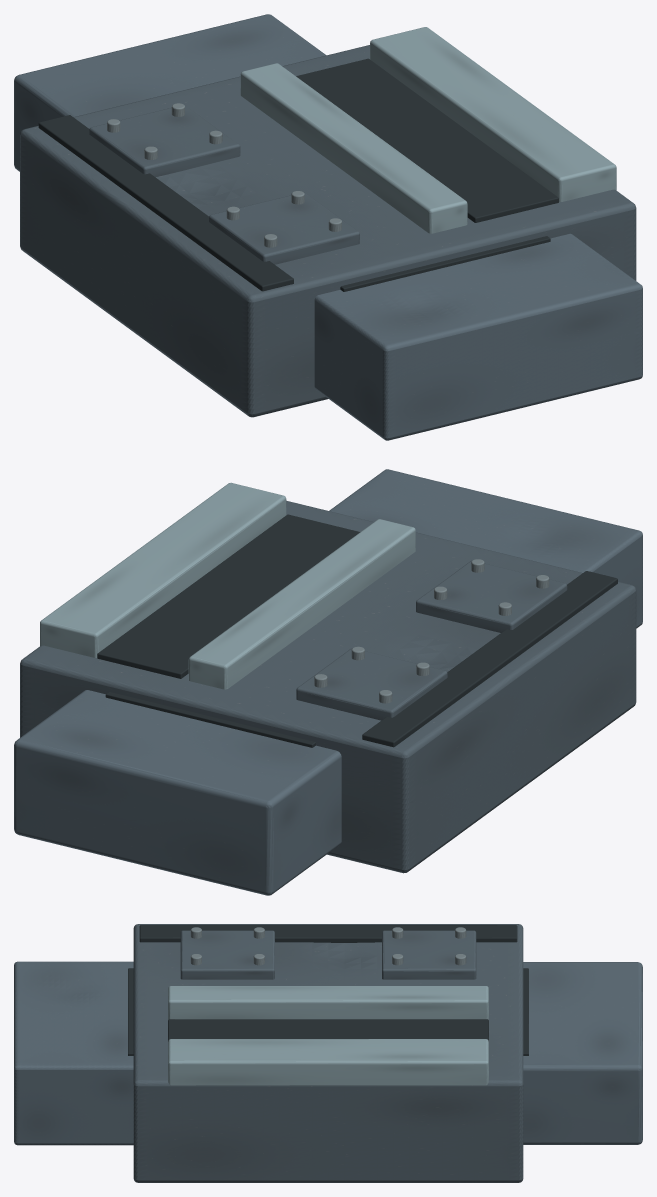
The picture shows the model from 3 angles, top to bottom: view 1: azimuth 30°, elevation 25°; view 2: azimuth 150°, elevation 25°; view 3: azimuth 270°, elevation 25°; orthographic projection. The views are drawn at different scales.
Parts seen in each view (by area): view 1: Mauna Burns Unit central casing, Mauna Burns Unit forward terminal, Mauna Burns Unit rear terminal, Mauna Burns Unit pale outer rail, Mauna Burns Unit dark inset floor 0, Mauna Burns Unit pale side spine, Mauna Burns Unit dark longitudinal field, Mauna Burns Unit service cover 1, Mauna Burns Unit service cover 0, Mauna Burns Unit forward terminal seam; view 2: Mauna Burns Unit central casing, Mauna Burns Unit rear terminal, Mauna Burns Unit forward terminal, Mauna Burns Unit pale outer rail, Mauna Burns Unit dark inset floor 0, Mauna Burns Unit pale side spine, Mauna Burns Unit dark longitudinal field, Mauna Burns Unit service cover 1, Mauna Burns Unit service cover 0, Mauna Burns Unit rear terminal seam; view 3: Mauna Burns Unit central casing, Mauna Burns Unit forward terminal, Mauna Burns Unit rear terminal, Mauna Burns Unit pale outer rail, Mauna Burns Unit pale side spine, Mauna Burns Unit dark inset floor 0, Mauna Burns Unit dark longitudinal field, Mauna Burns Unit service cover 0, Mauna Burns Unit service cover 1, Mauna Burns Unit forward terminal seam, Mauna Burns Unit rear terminal seam.
Boxes of the visible parts, <box> form: Mauna Burns Unit central casing: <box>20,45,636,417</box>; Mauna Burns Unit forward terminal: <box>314,233,642,440</box>; Mauna Burns Unit rear terminal: <box>14,14,326,171</box>; Mauna Burns Unit pale outer rail: <box>370,27,616,201</box>; Mauna Burns Unit dark inset floor 0: <box>296,58,558,222</box>; Mauna Burns Unit pale side spine: <box>240,63,467,233</box>; Mauna Burns Unit dark longitudinal field: <box>38,115,293,291</box>; Mauna Burns Unit service cover 1: <box>89,105,240,177</box>; Mauna Burns Unit service cover 0: <box>209,192,359,264</box>; Mauna Burns Unit forward terminal seam: <box>340,236,550,291</box>; Mauna Burns Unit central casing: <box>20,500,636,873</box>; Mauna Burns Unit rear terminal: <box>14,690,341,895</box>; Mauna Burns Unit forward terminal: <box>329,469,642,628</box>; Mauna Burns Unit pale outer rail: <box>40,482,286,657</box>; Mauna Burns Unit dark inset floor 0: <box>97,514,360,678</box>; Mauna Burns Unit pale side spine: <box>188,519,415,689</box>; Mauna Burns Unit dark longitudinal field: <box>362,571,617,747</box>; Mauna Burns Unit service cover 1: <box>296,648,447,720</box>; Mauna Burns Unit service cover 0: <box>416,560,567,632</box>; Mauna Burns Unit rear terminal seam: <box>105,692,315,747</box>; Mauna Burns Unit central casing: <box>133,924,523,1182</box>; Mauna Burns Unit forward terminal: <box>14,961,133,1145</box>; Mauna Burns Unit rear terminal: <box>523,962,642,1144</box>; Mauna Burns Unit pale outer rail: <box>168,1039,488,1085</box>; Mauna Burns Unit pale side spine: <box>168,986,488,1019</box>; Mauna Burns Unit dark inset floor 0: <box>168,1019,488,1041</box>; Mauna Burns Unit dark longitudinal field: <box>139,925,517,942</box>; Mauna Burns Unit service cover 0: <box>180,930,274,979</box>; Mauna Burns Unit service cover 1: <box>382,930,476,979</box>; Mauna Burns Unit forward terminal seam: <box>128,968,133,1055</box>; Mauna Burns Unit rear terminal seam: <box>523,968,528,1055</box>.
Bounding box in the file's own units: 1.2 × 0.4425 × 2.
Materials: 5 (3 with a texture image).
